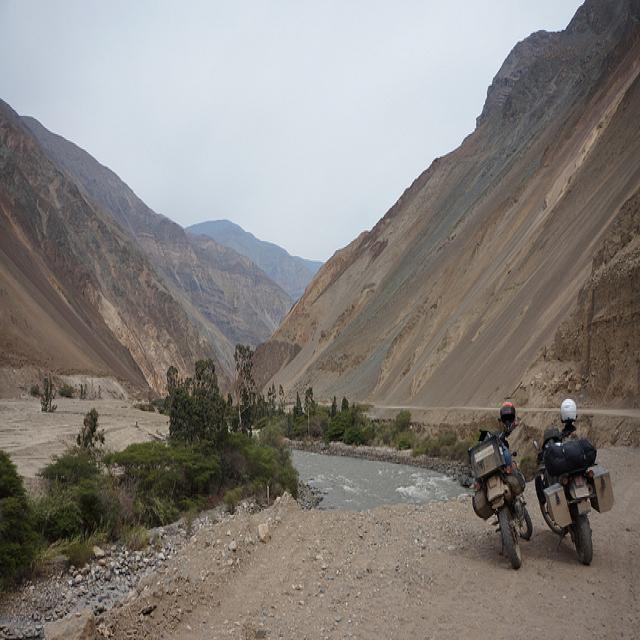motor: (534, 400, 613, 565), (476, 401, 533, 571), (467, 440, 525, 522)
